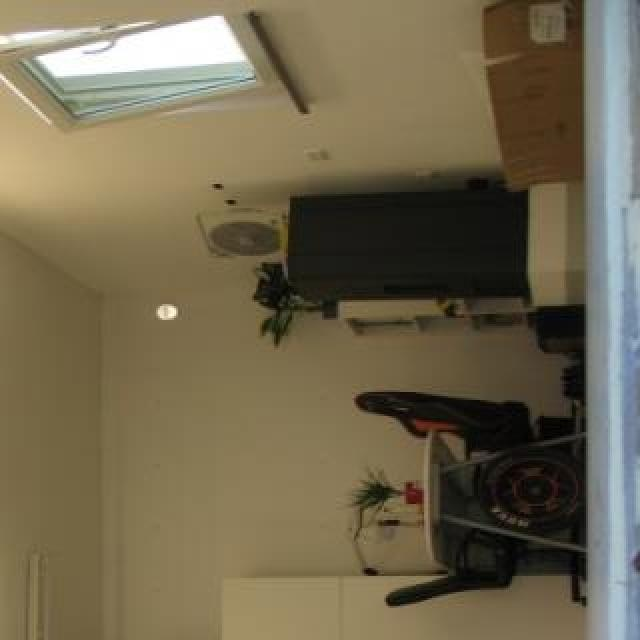fluorescent tube: (0, 222, 8, 330)
